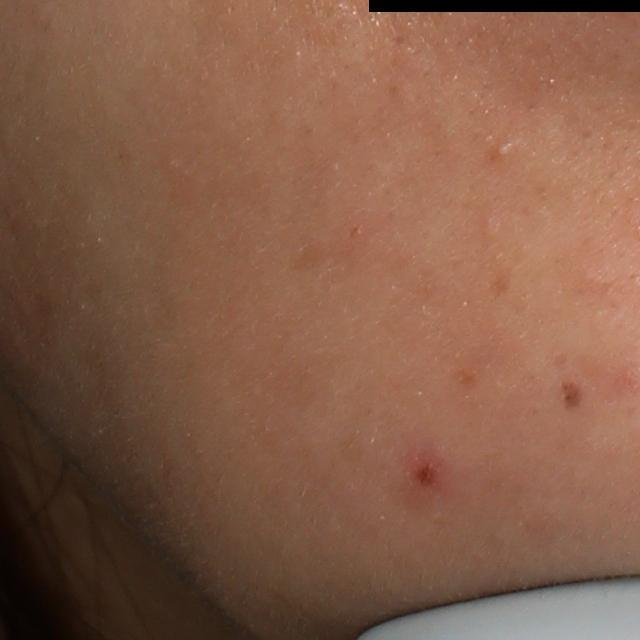comedo: (477, 213, 506, 240), (496, 141, 514, 158)
nevus: (555, 376, 586, 410)
papule: (407, 450, 444, 493)
